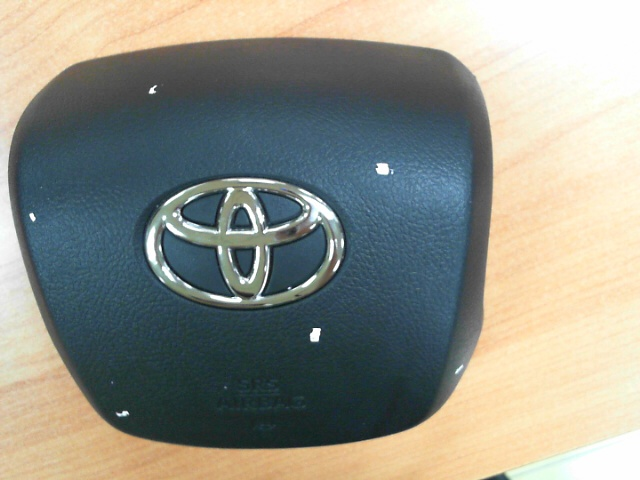Airbag: (374, 162, 395, 176), (309, 327, 321, 342), (115, 410, 130, 417), (148, 85, 158, 95), (455, 364, 463, 374), (29, 212, 36, 222)
